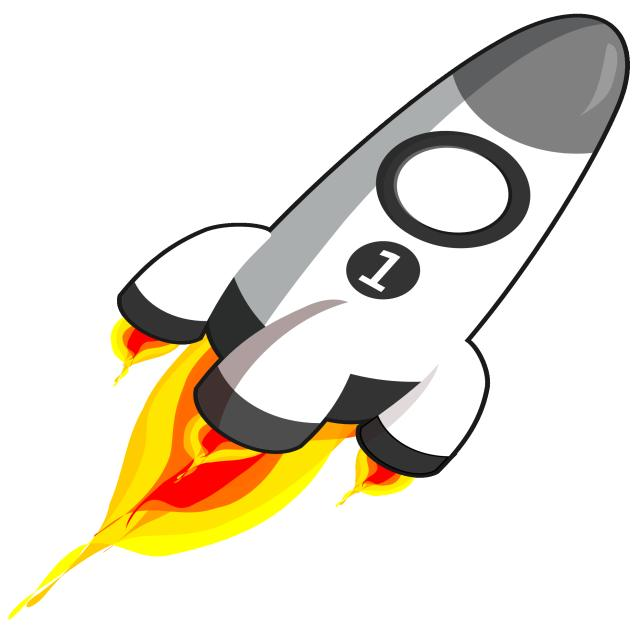medium_debris: (96, 321, 433, 588)
rocket: (101, 7, 639, 483)
